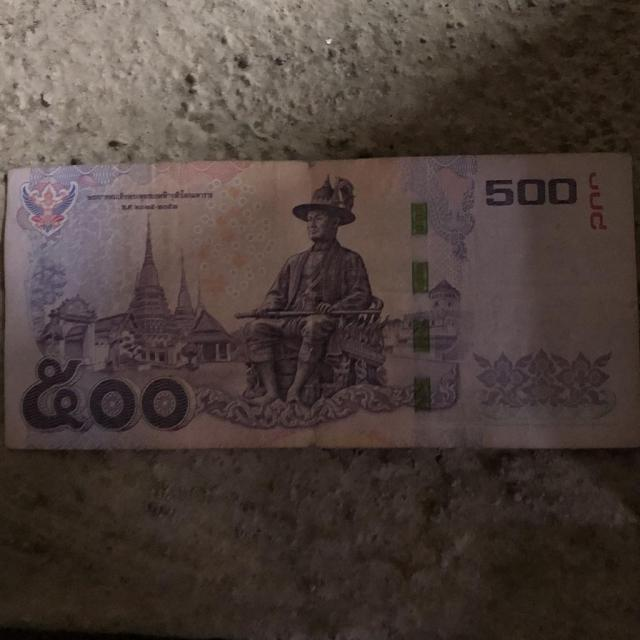THAI500: (4, 154, 639, 449)
